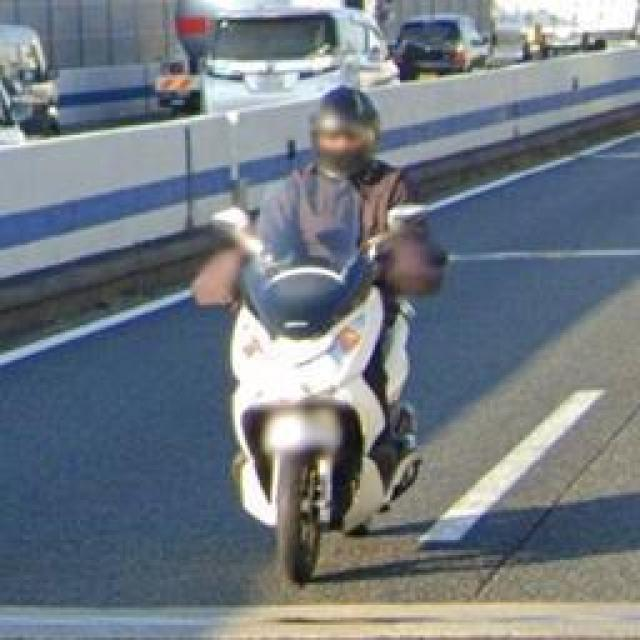car: (201, 7, 398, 113), (391, 12, 496, 82)
motorbike: (197, 86, 441, 586)
